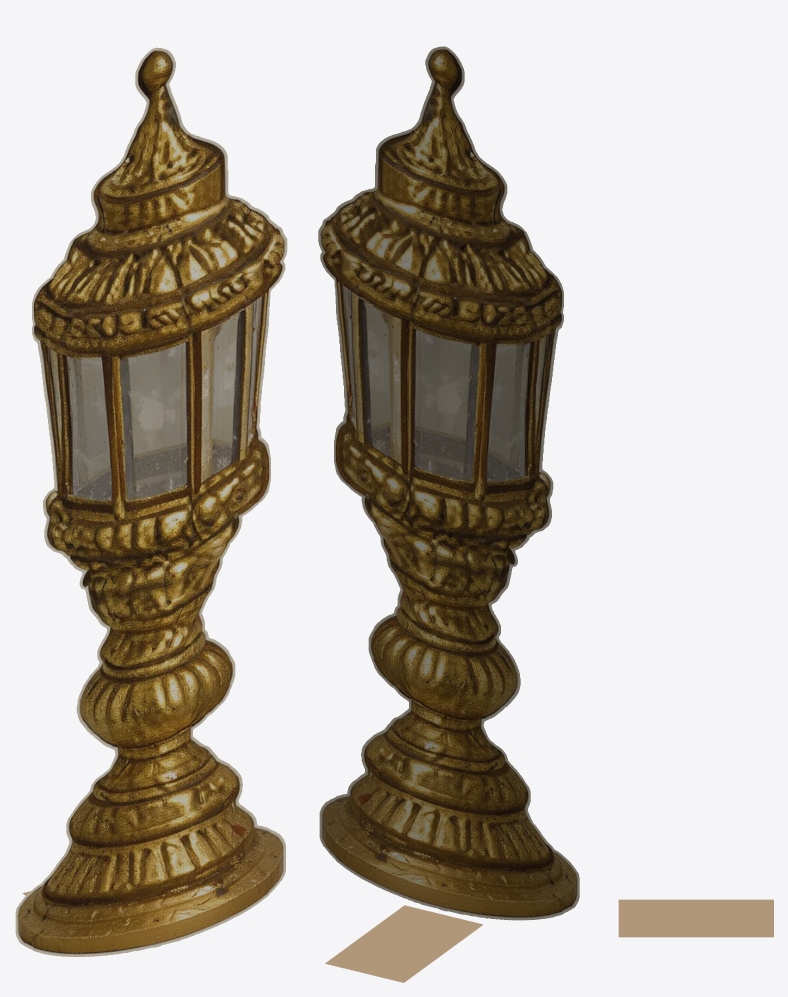
Rendered from toad-standee-lantern-post.glb.
3 views of the same model, side by side, from view 1: azimuth 30°, elevation 25°; view 2: azimuth 150°, elevation 25°; view 3: azimuth 270°, elevation 25° (orthographic). The views are drawn at different scales.
Parts seen in each view (by area): view 1: lantern-post; view 2: lantern-post; view 3: lantern-post.
Boxes of the visible parts, bbox=[...] form: lantern-post: bbox=[15, 47, 287, 956]; lantern-post: bbox=[318, 46, 579, 982]; lantern-post: bbox=[618, 899, 773, 937].
Size of the model in its own units: 0.063 by 0.1977 by 0.035.
1 material, 1 textured.
